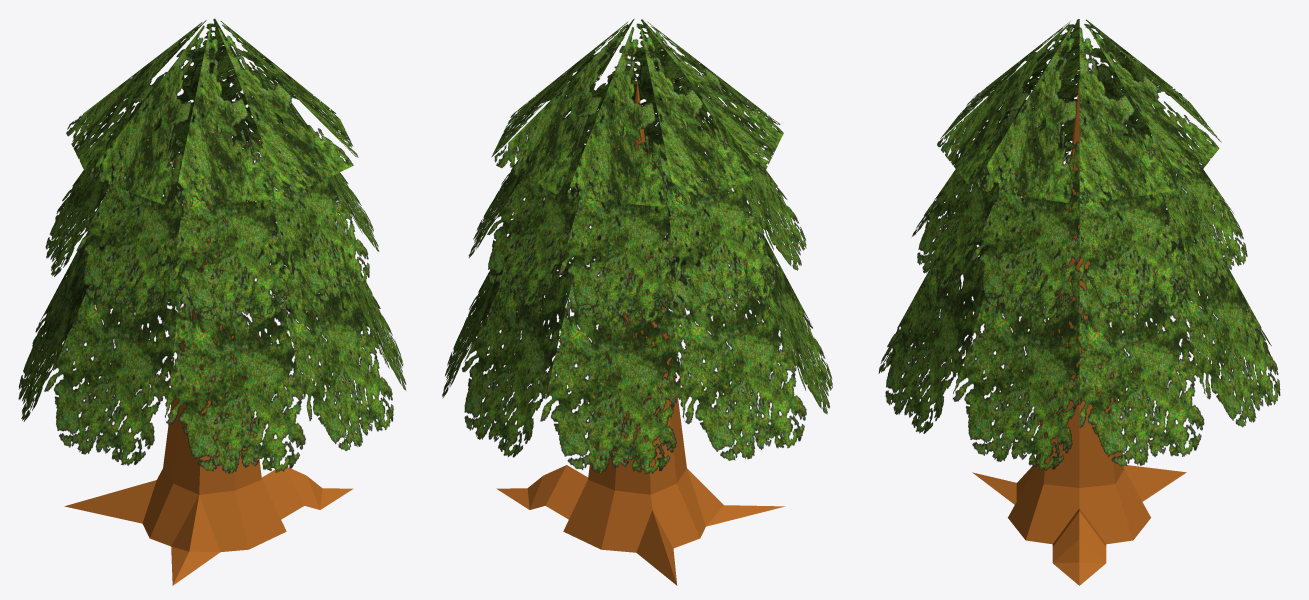
Rendered from sTree 2.glb.
3 renders of one model, left to right at view 1: azimuth 30°, elevation 25°; view 2: azimuth 150°, elevation 25°; view 3: azimuth 270°, elevation 25°, orthographic.
Parts seen in each view (by area): view 1: tree2; view 2: tree2; view 3: tree2.
Part boxes in pixels (x1,y1,x2,y2): tree2: [18, 18, 406, 585]; tree2: [442, 19, 832, 585]; tree2: [878, 19, 1280, 585].
Size of the model in its own units: 1.8 by 2.33 by 1.8.
Materials: 2 (1 with a texture image).
